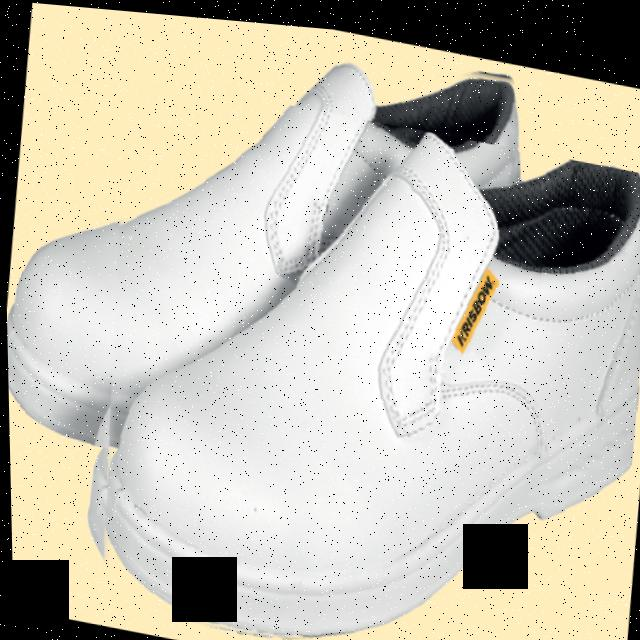shoe: (69, 67, 640, 640), (0, 0, 537, 517)
